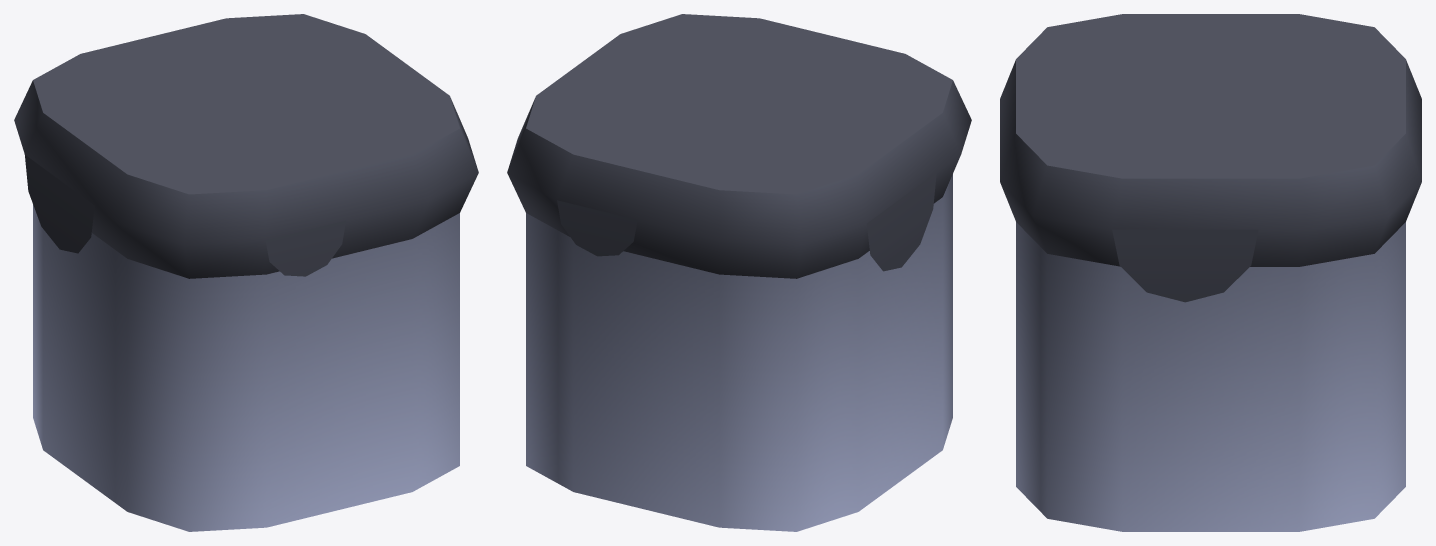
Rendered from block-snow-overhang-corner.glb.
3 views of the same model, side by side, from view 1: azimuth 30°, elevation 25°; view 2: azimuth 150°, elevation 25°; view 3: azimuth 270°, elevation 25° (orthographic). The views are drawn at different scales.
Visible parts, largest first — view 1: block-snow-overhang-corner; view 2: block-snow-overhang-corner; view 3: block-snow-overhang-corner.
Part boxes in pixels (bbox=[...]): block-snow-overhang-corner: bbox=[14, 14, 478, 531]; block-snow-overhang-corner: bbox=[507, 14, 971, 531]; block-snow-overhang-corner: bbox=[1000, 14, 1421, 531].
Bounding box in the file's own units: 1.08 × 1 × 1.08.
